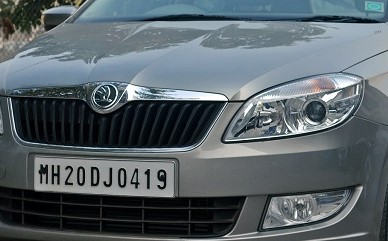MH20DJ0419: (34, 155, 174, 198)
